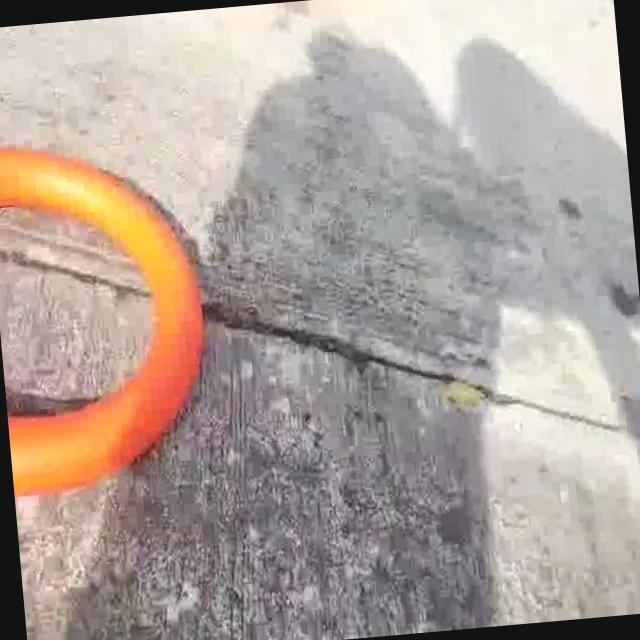note: (0, 127, 228, 508)
